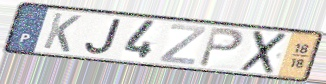4: (122, 18, 157, 63)
J: (83, 18, 124, 57)
K: (41, 11, 84, 54)
P: (196, 26, 245, 69)
X: (237, 30, 290, 76)
Z: (157, 23, 209, 66)
